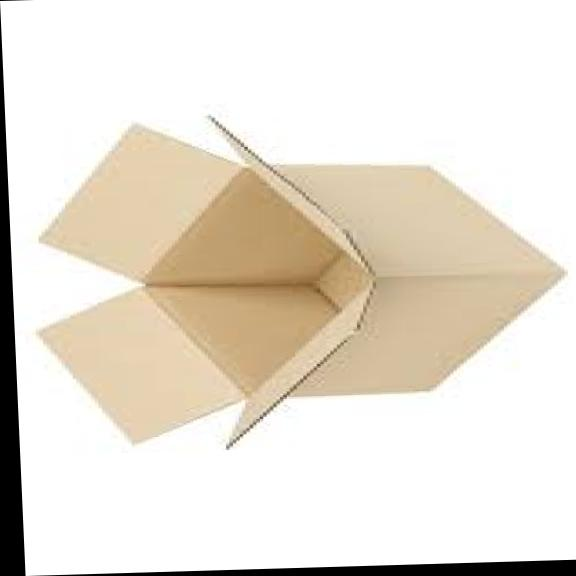Kertas: (40, 123, 561, 443)
